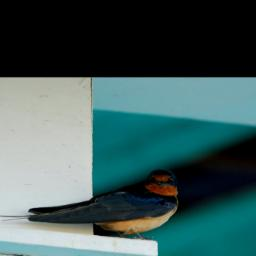Swallow: (0, 165, 183, 239)
